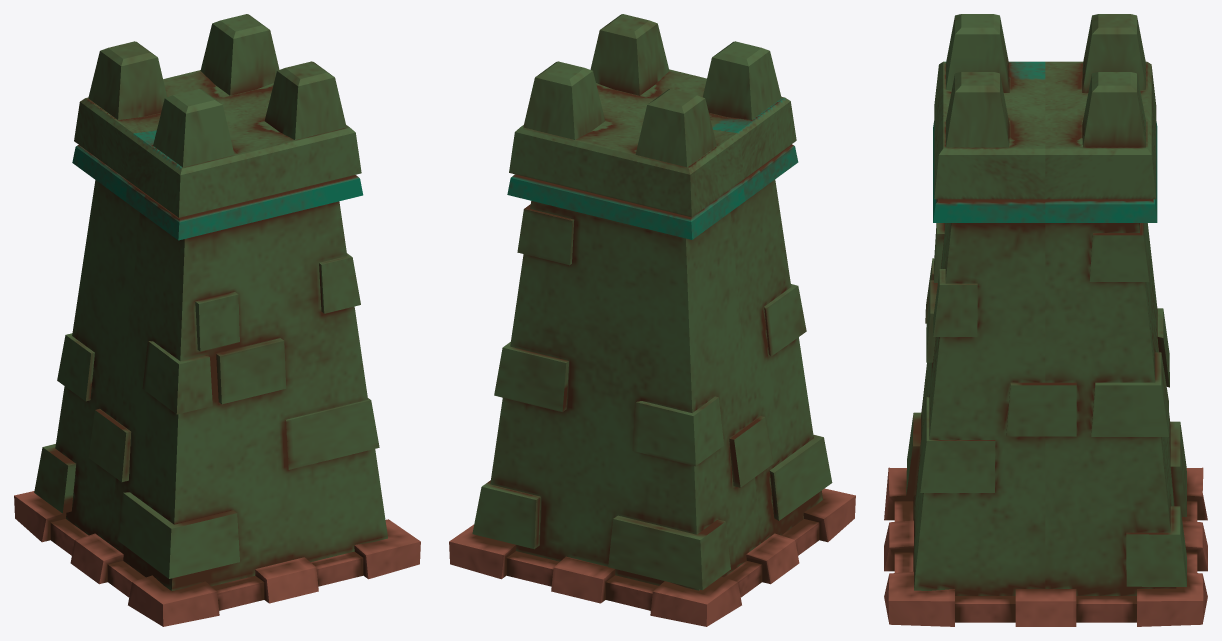
Rendered from Environment_Corner.fbx.
3 views of the same model, side by side, from view 1: azimuth 30°, elevation 25°; view 2: azimuth 150°, elevation 25°; view 3: azimuth 270°, elevation 25° (orthographic). The views are drawn at different scales.
Visible parts, largest first — view 1: Corner; view 2: Corner; view 3: Corner.
Boxes of the visible parts, left/top/right/bottom form: Corner: left=14, top=14, right=420, bottom=626; Corner: left=449, top=14, right=855, bottom=626; Corner: left=884, top=14, right=1207, bottom=626.
Size of the model in its own units: 1270 by 1270 by 2219.
